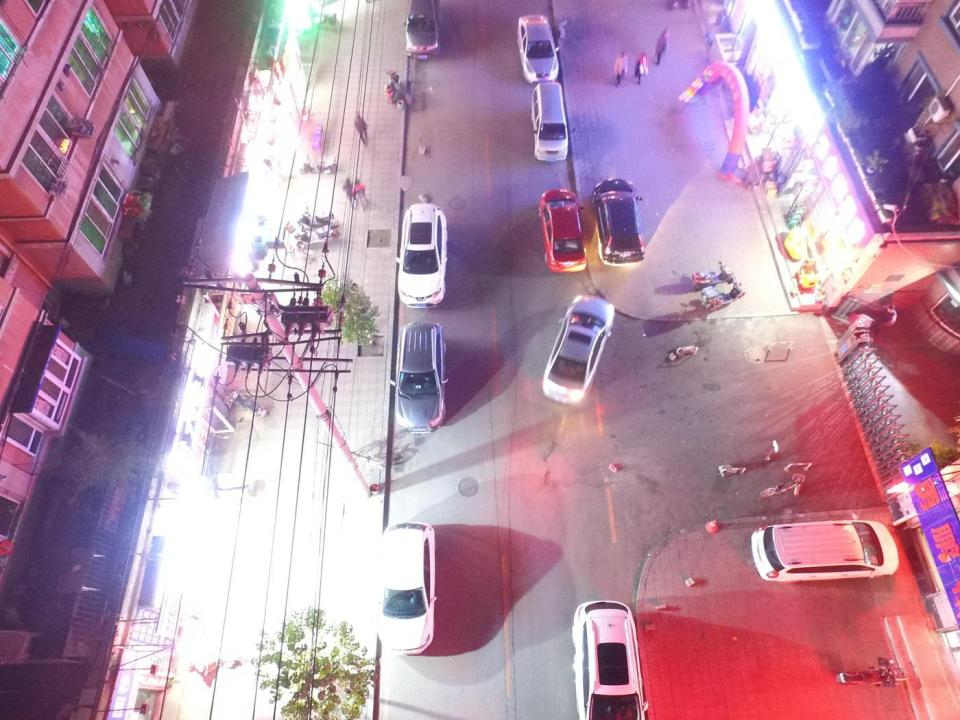car: (750, 518, 900, 583), (571, 599, 646, 720), (375, 520, 436, 656), (542, 294, 616, 406), (393, 321, 447, 435), (397, 202, 448, 308), (591, 177, 646, 265), (538, 185, 588, 274), (516, 12, 560, 84), (405, 0, 442, 59)
van: (530, 79, 569, 162)
